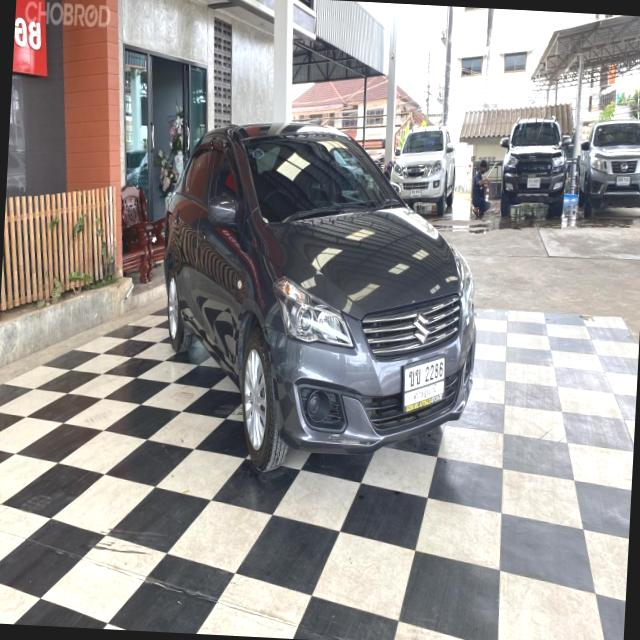license_plate: (401, 348, 449, 418), (526, 175, 544, 192), (614, 175, 634, 188), (408, 187, 424, 200)
